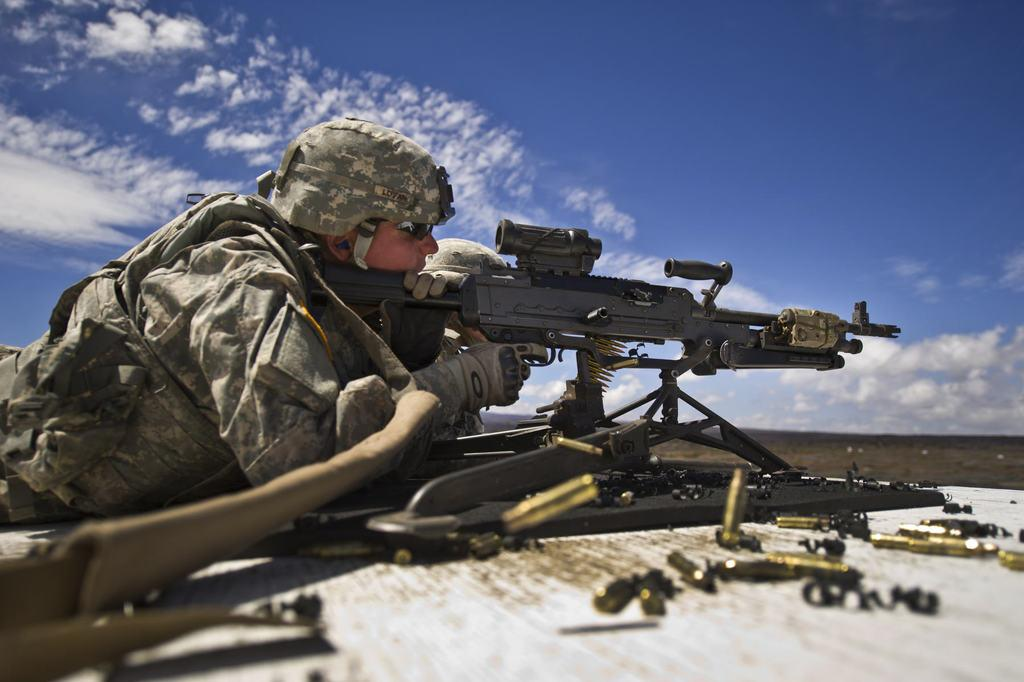Shotgun: (314, 219, 902, 474)
